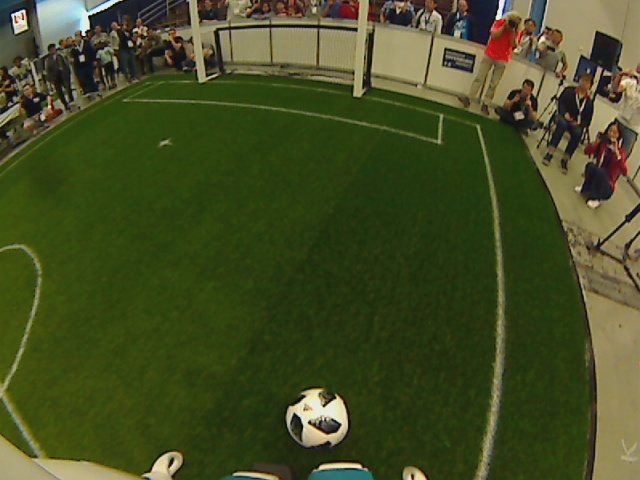ball: (282, 384, 349, 449)
